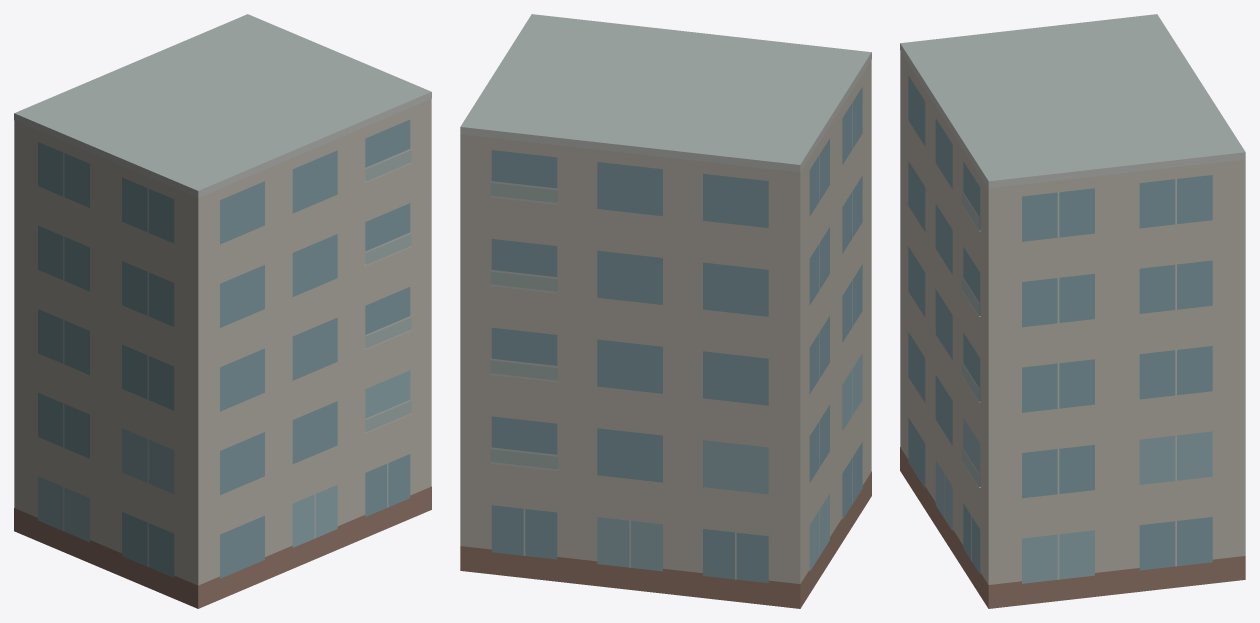
File: survey-upis-33019474.glb
3 renders of one model, left to right at view 1: azimuth 30°, elevation 25°; view 2: azimuth 150°, elevation 25°; view 3: azimuth 270°, elevation 25°, orthographic. The views are drawn at different scales.
Parts seen in each view (by area): view 1: survey-upis-33019474.tmp; view 2: survey-upis-33019474.tmp; view 3: survey-upis-33019474.tmp.
Boxes of the visible parts, bbox=[...] form: survey-upis-33019474.tmp: bbox=[14, 14, 431, 608]; survey-upis-33019474.tmp: bbox=[460, 14, 871, 608]; survey-upis-33019474.tmp: bbox=[900, 14, 1245, 608].
Size of the model in its own units: 12.22 by 14.55 by 10.67.
